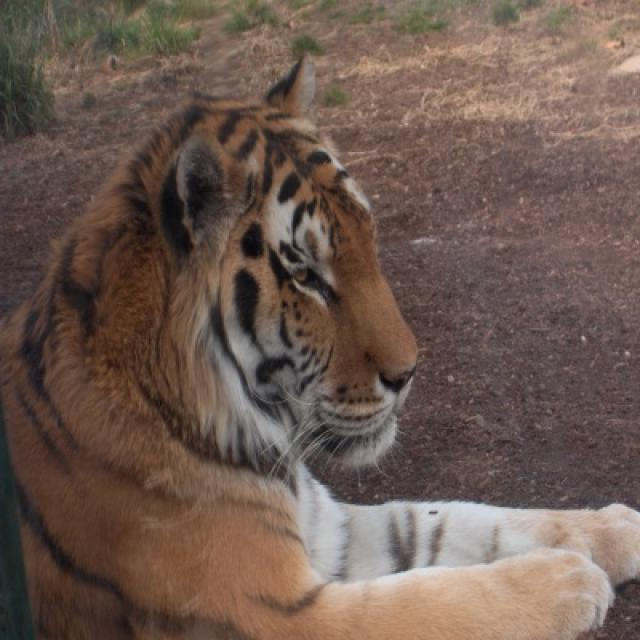Tiger: (0, 56, 637, 636)
